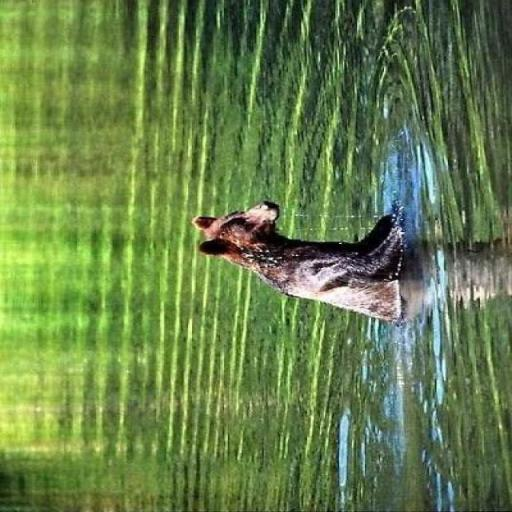Bear: (190, 198, 410, 324)
